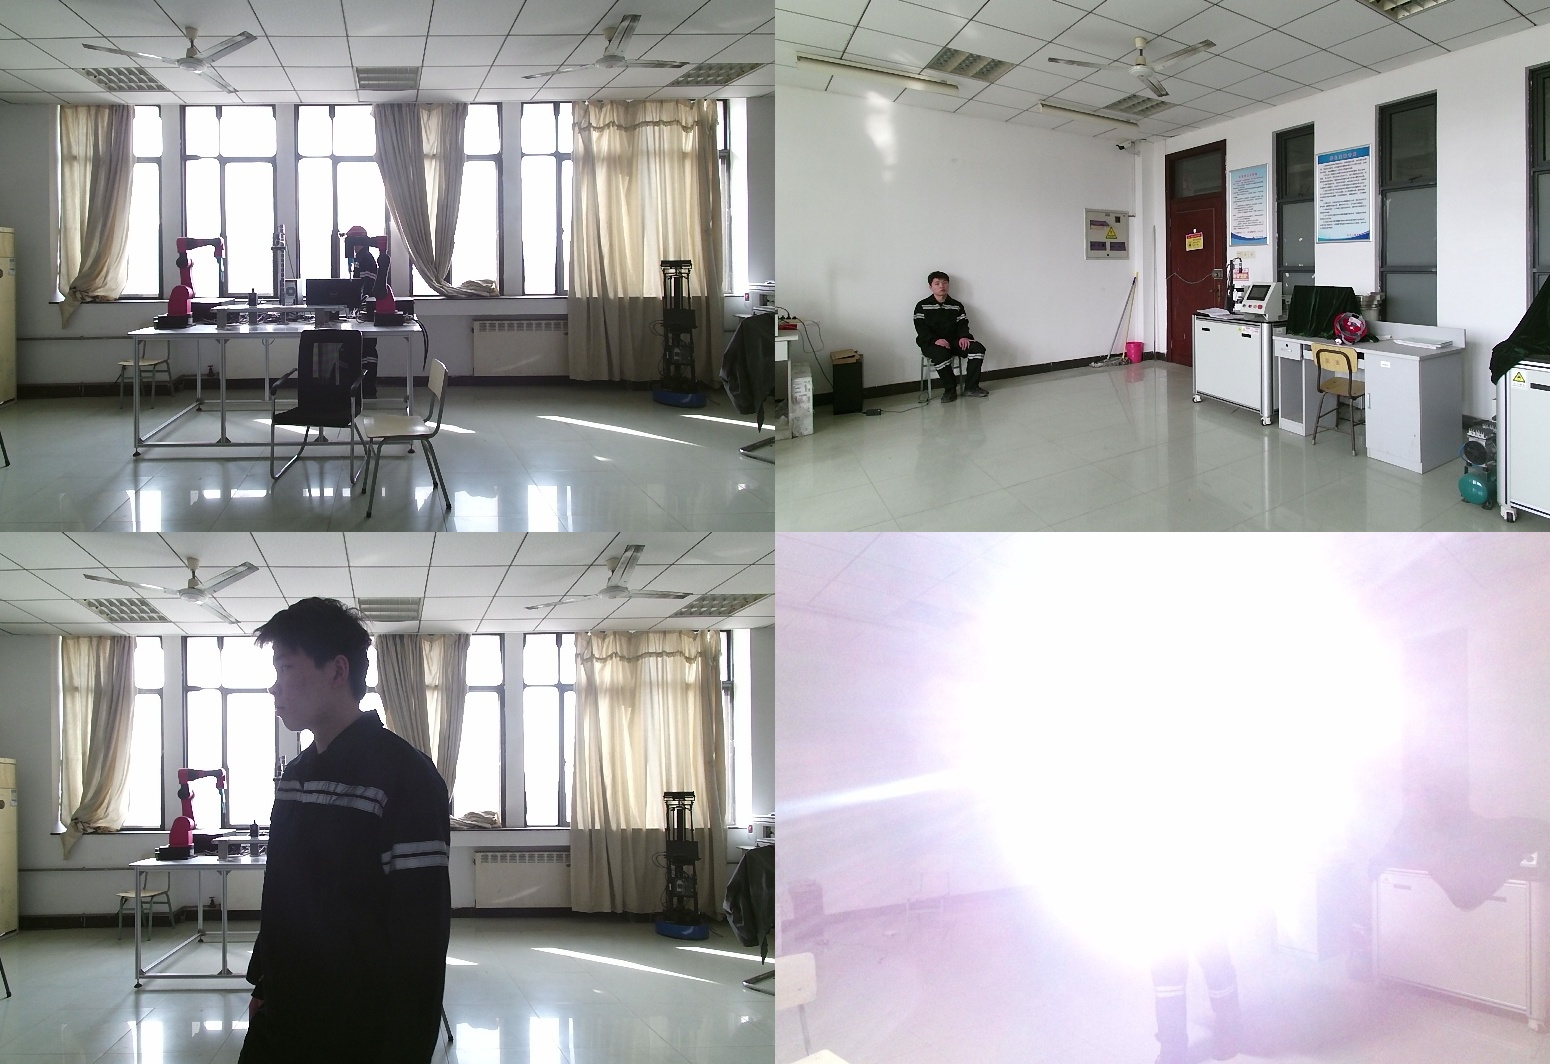person: (250, 596, 496, 1064), (1137, 712, 1257, 1064), (910, 270, 987, 405), (335, 225, 379, 398)
